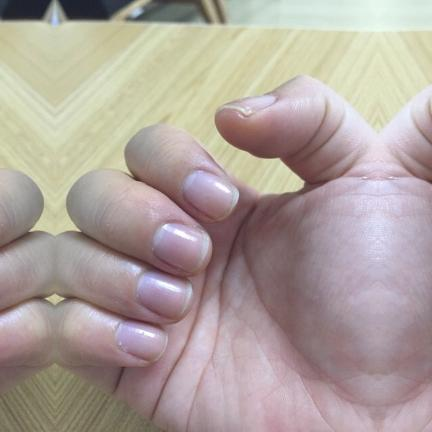Nail: (181, 170, 239, 221), (151, 223, 210, 272), (136, 270, 192, 319), (115, 321, 167, 362), (217, 94, 276, 116)
